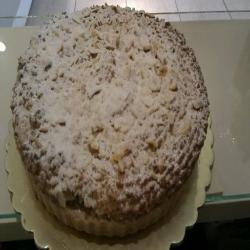apple_pie: (17, 5, 209, 243)
